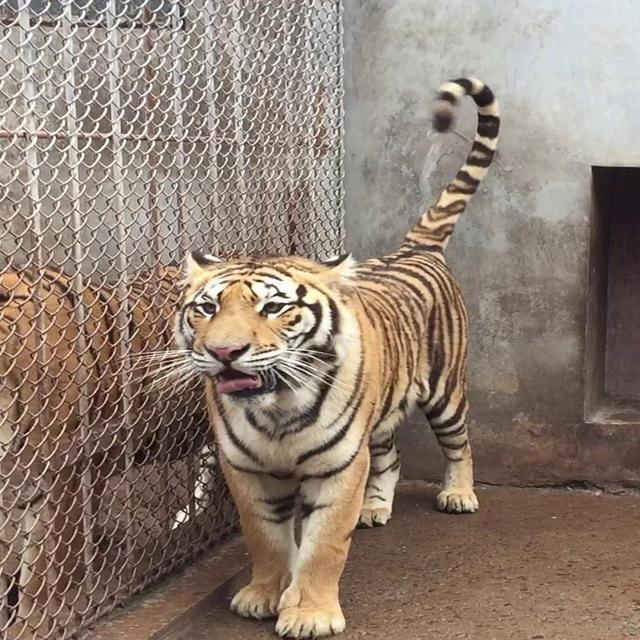tiger: (157, 71, 517, 640), (0, 240, 300, 629)
